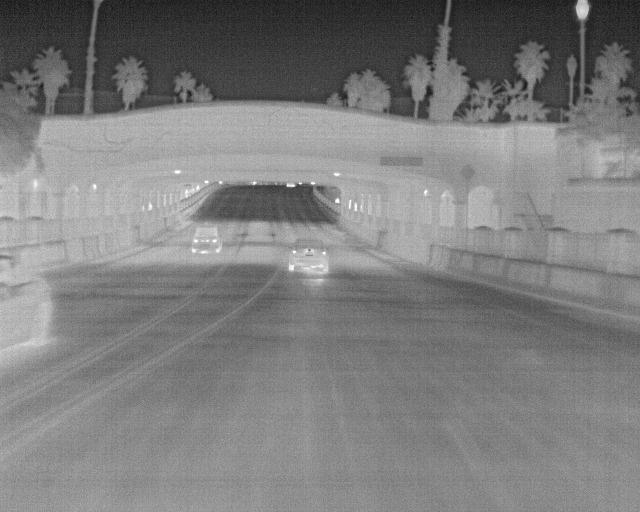car: (1, 253, 54, 357), (284, 237, 330, 274), (187, 221, 224, 255)
